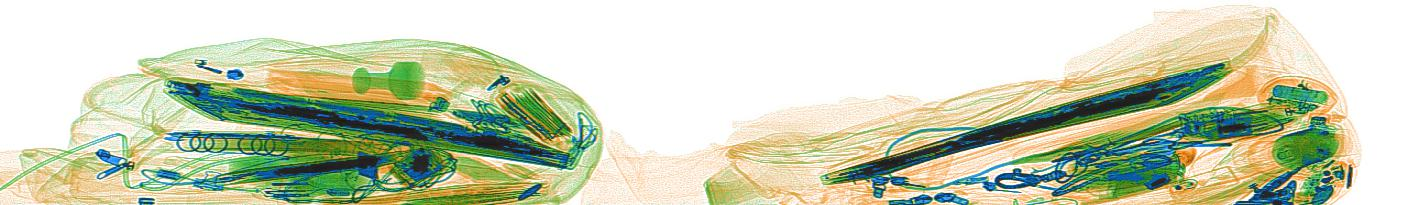battery: (1271, 82, 1328, 105)
seal: (349, 57, 425, 102)
